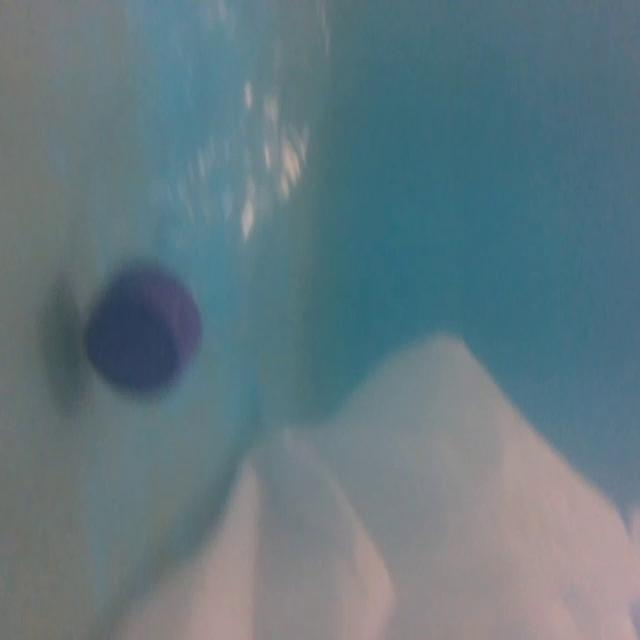plastic bags: (100, 342, 640, 640)
plastic bottle: (72, 0, 338, 407)
